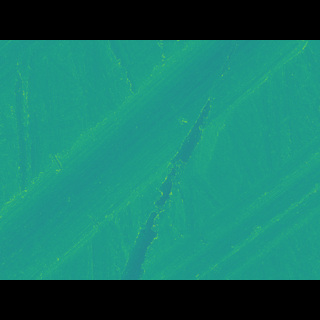Loch: (0, 69, 314, 250), (141, 141, 319, 250), (117, 103, 214, 251)
